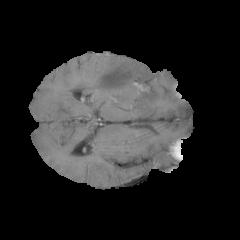glioma: (70, 58, 154, 110)
